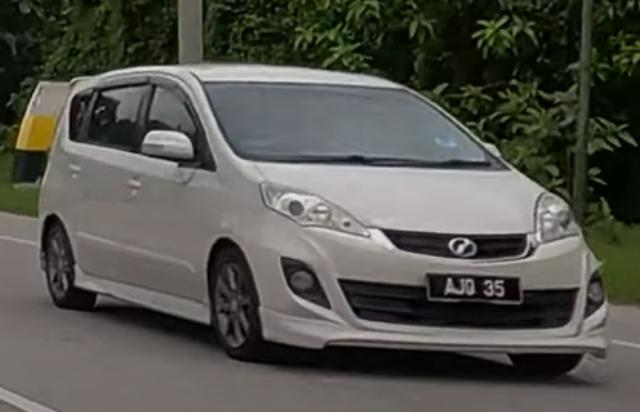License_Plate: (424, 273, 524, 306)
car: (37, 61, 612, 377)
